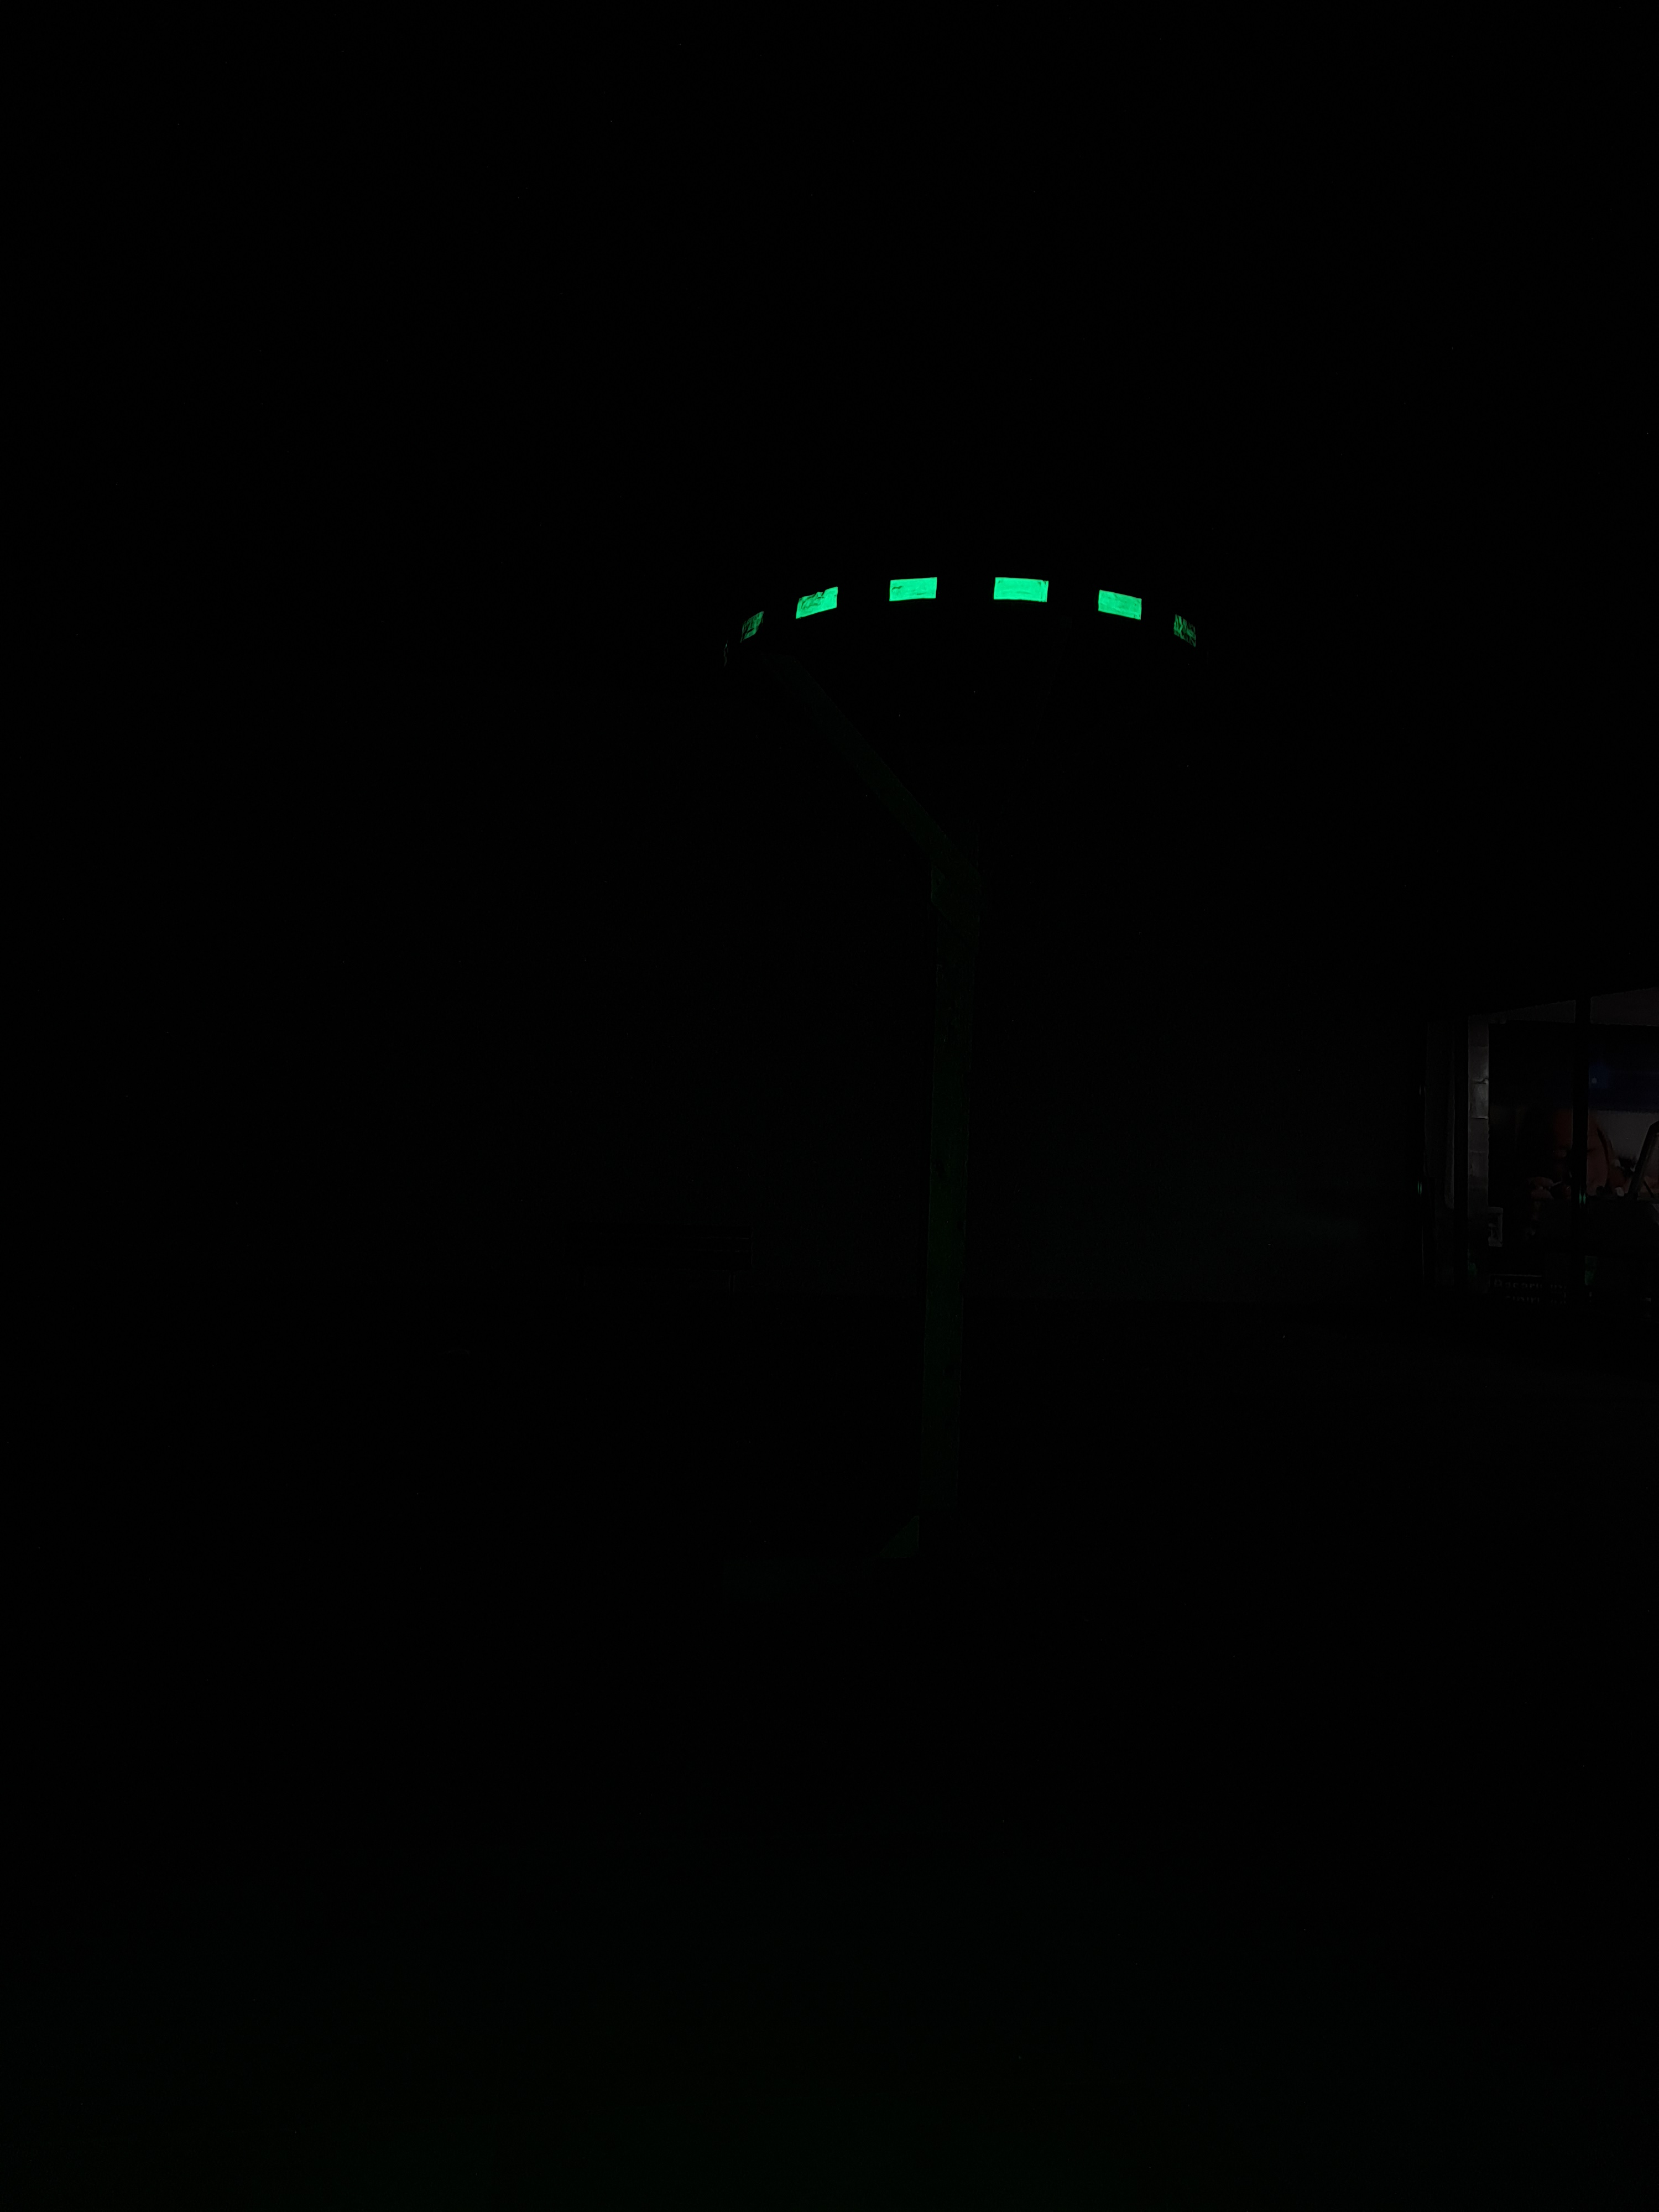hoop: (697, 549, 1218, 674)
